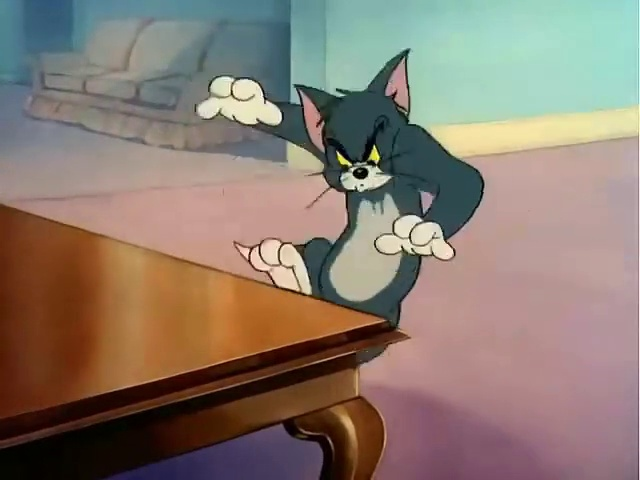tom: (200, 39, 491, 345)
